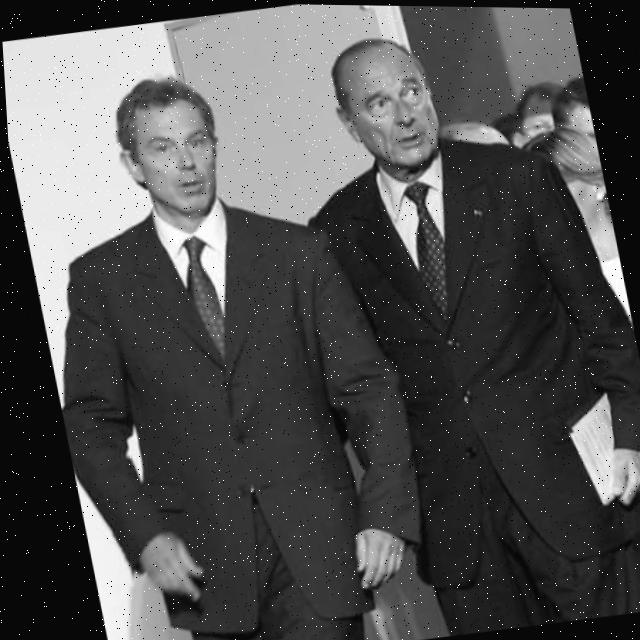face: (103, 70, 242, 232), (316, 26, 458, 179)
